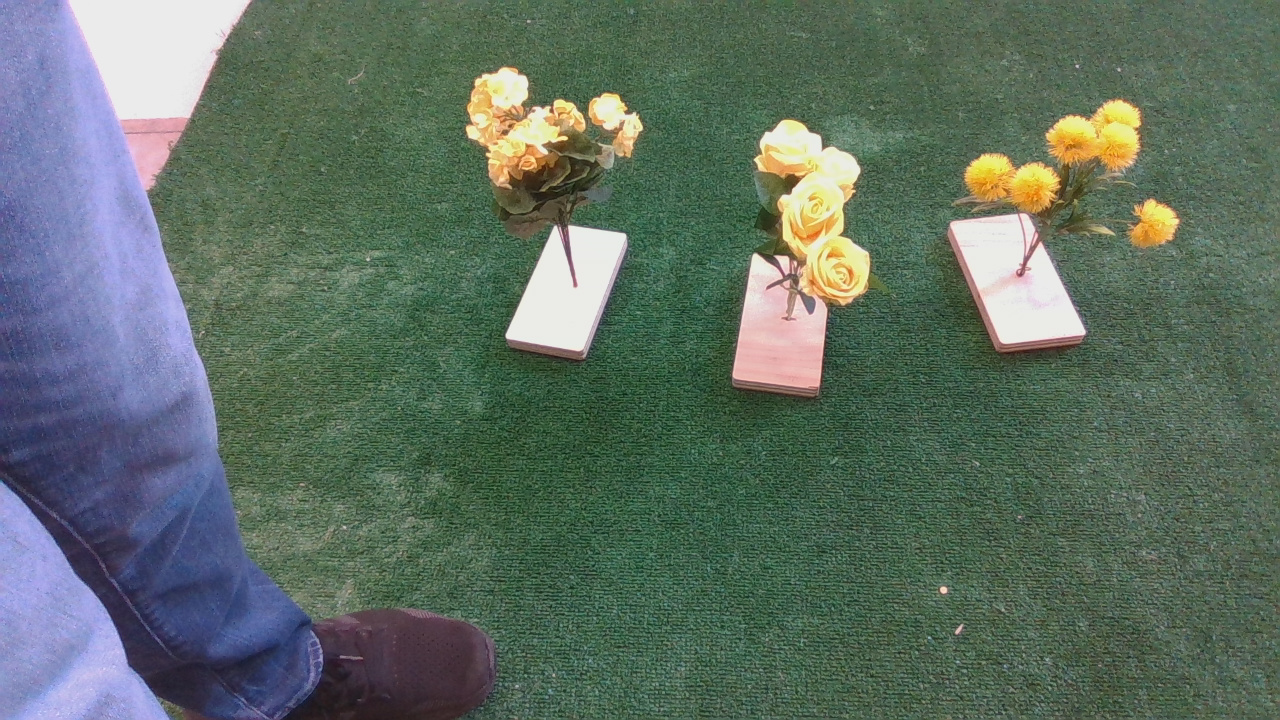dandelion: (943, 102, 1209, 265)
geranium: (455, 55, 660, 241)
rose: (736, 106, 892, 318)
